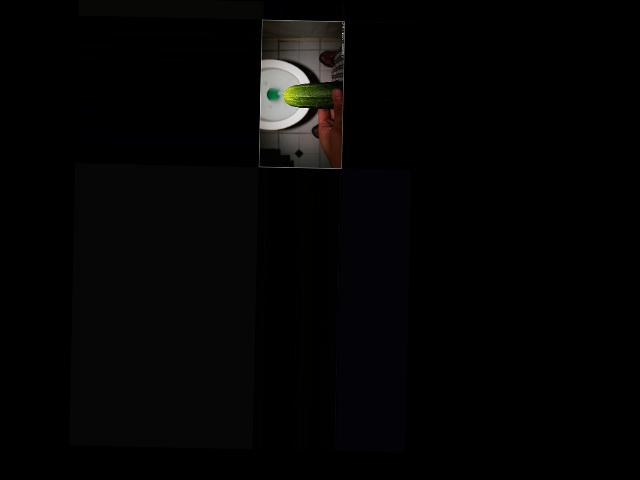cucumber: (283, 79, 344, 108)
